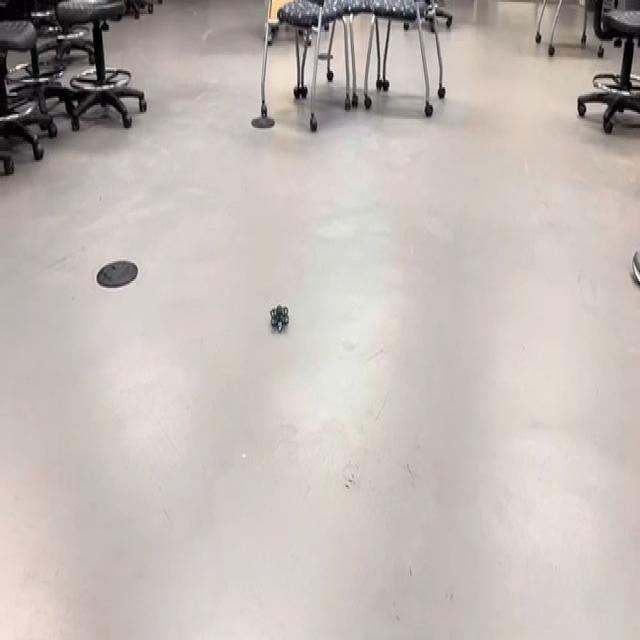drone: (264, 290, 295, 340)
